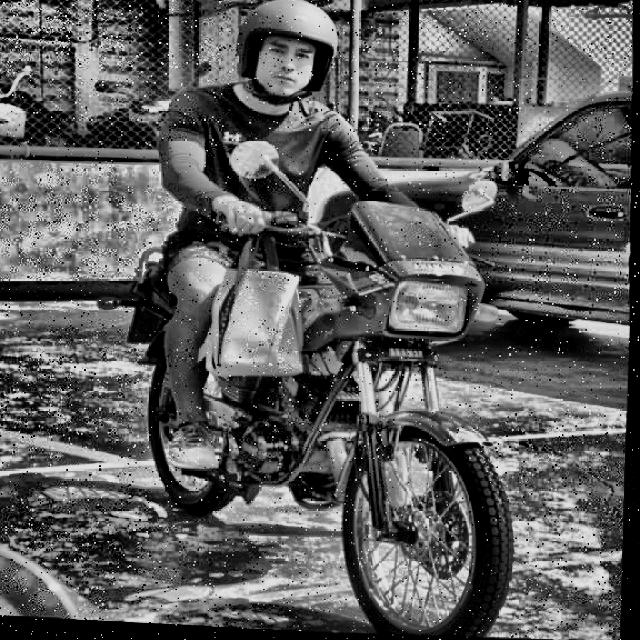Helmet: (232, 0, 347, 114)
